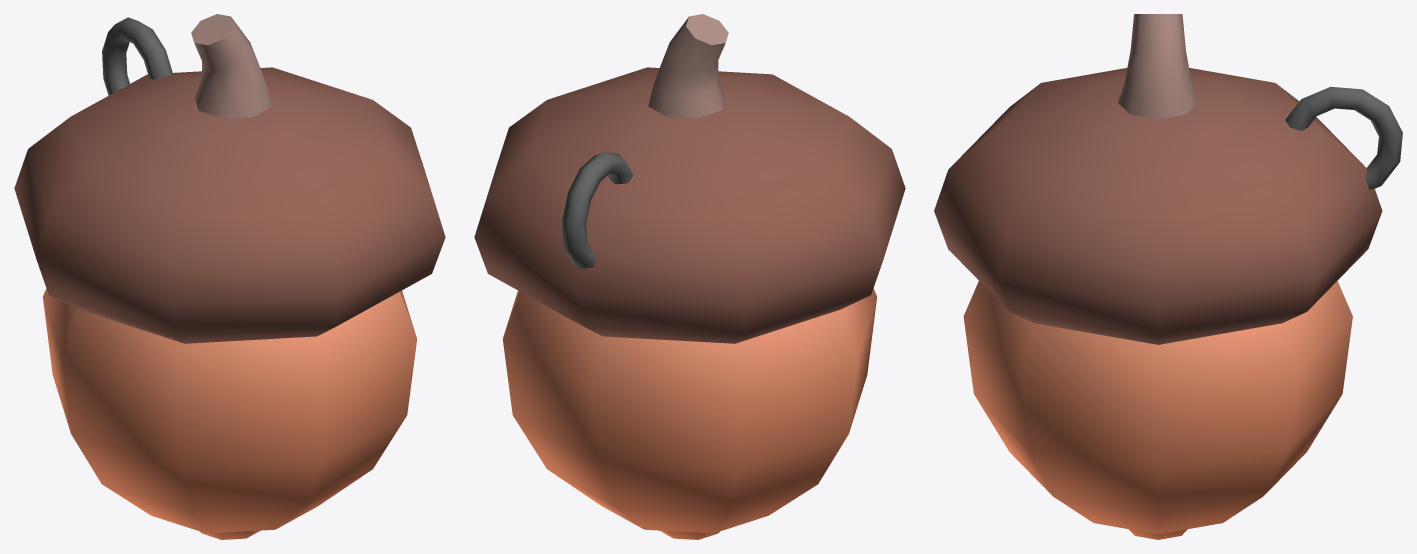
Rendered from Charm_23.fbx.
The picture shows the model from 3 angles, left to right: view 1: azimuth 30°, elevation 25°; view 2: azimuth 150°, elevation 25°; view 3: azimuth 270°, elevation 25°; orthographic projection.
Visible parts, largest first — view 1: Charm_23; view 2: Charm_23; view 3: Charm_23.
Part boxes in pixels (x1,y1,x2,y2): Charm_23: [14, 14, 445, 539]; Charm_23: [474, 14, 905, 539]; Charm_23: [934, 14, 1402, 539].
Size of the model in its own units: 4.52 by 5.81 by 4.73.
